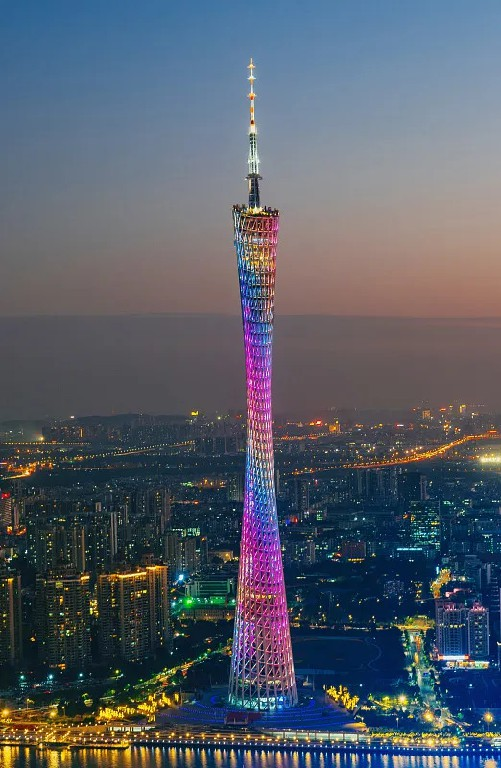Canton: (230, 56, 300, 709)
